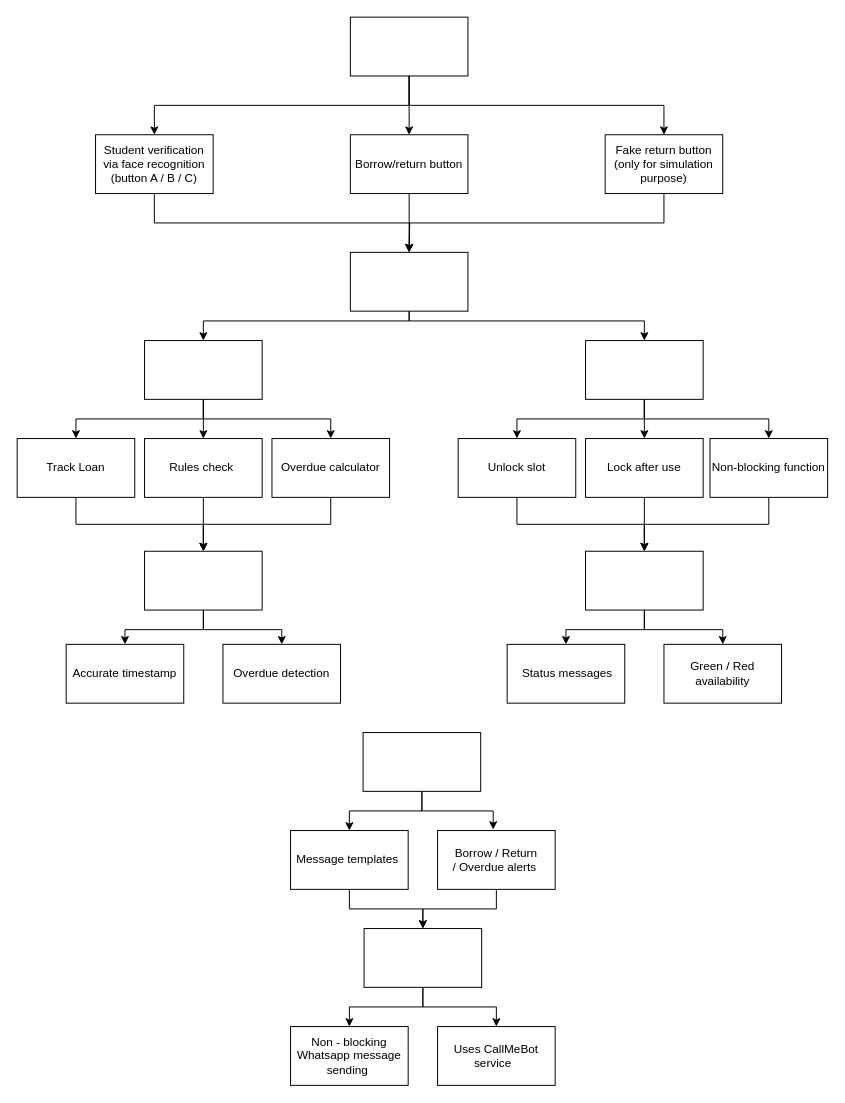
The diagram is 845 pixels wide and 1103 high, and some of its shapes have lost their labels. Here are the shapes that lost their labels. From the top down, the box of each, then its label:
(349, 16, 468, 76): Student Interface
(349, 251, 468, 311): Main Program Logic ESP32
(144, 340, 262, 399): Loan Manager
(585, 340, 703, 399): Servo State Machine
(144, 550, 262, 610): Real Time Clock (RTC)
(585, 550, 703, 610): LCD + RGB LED
(362, 732, 481, 791): Notification Layer (Whatsapp via CallMeBot API)
(363, 928, 482, 987): WiFi + FreeRTOS Task
